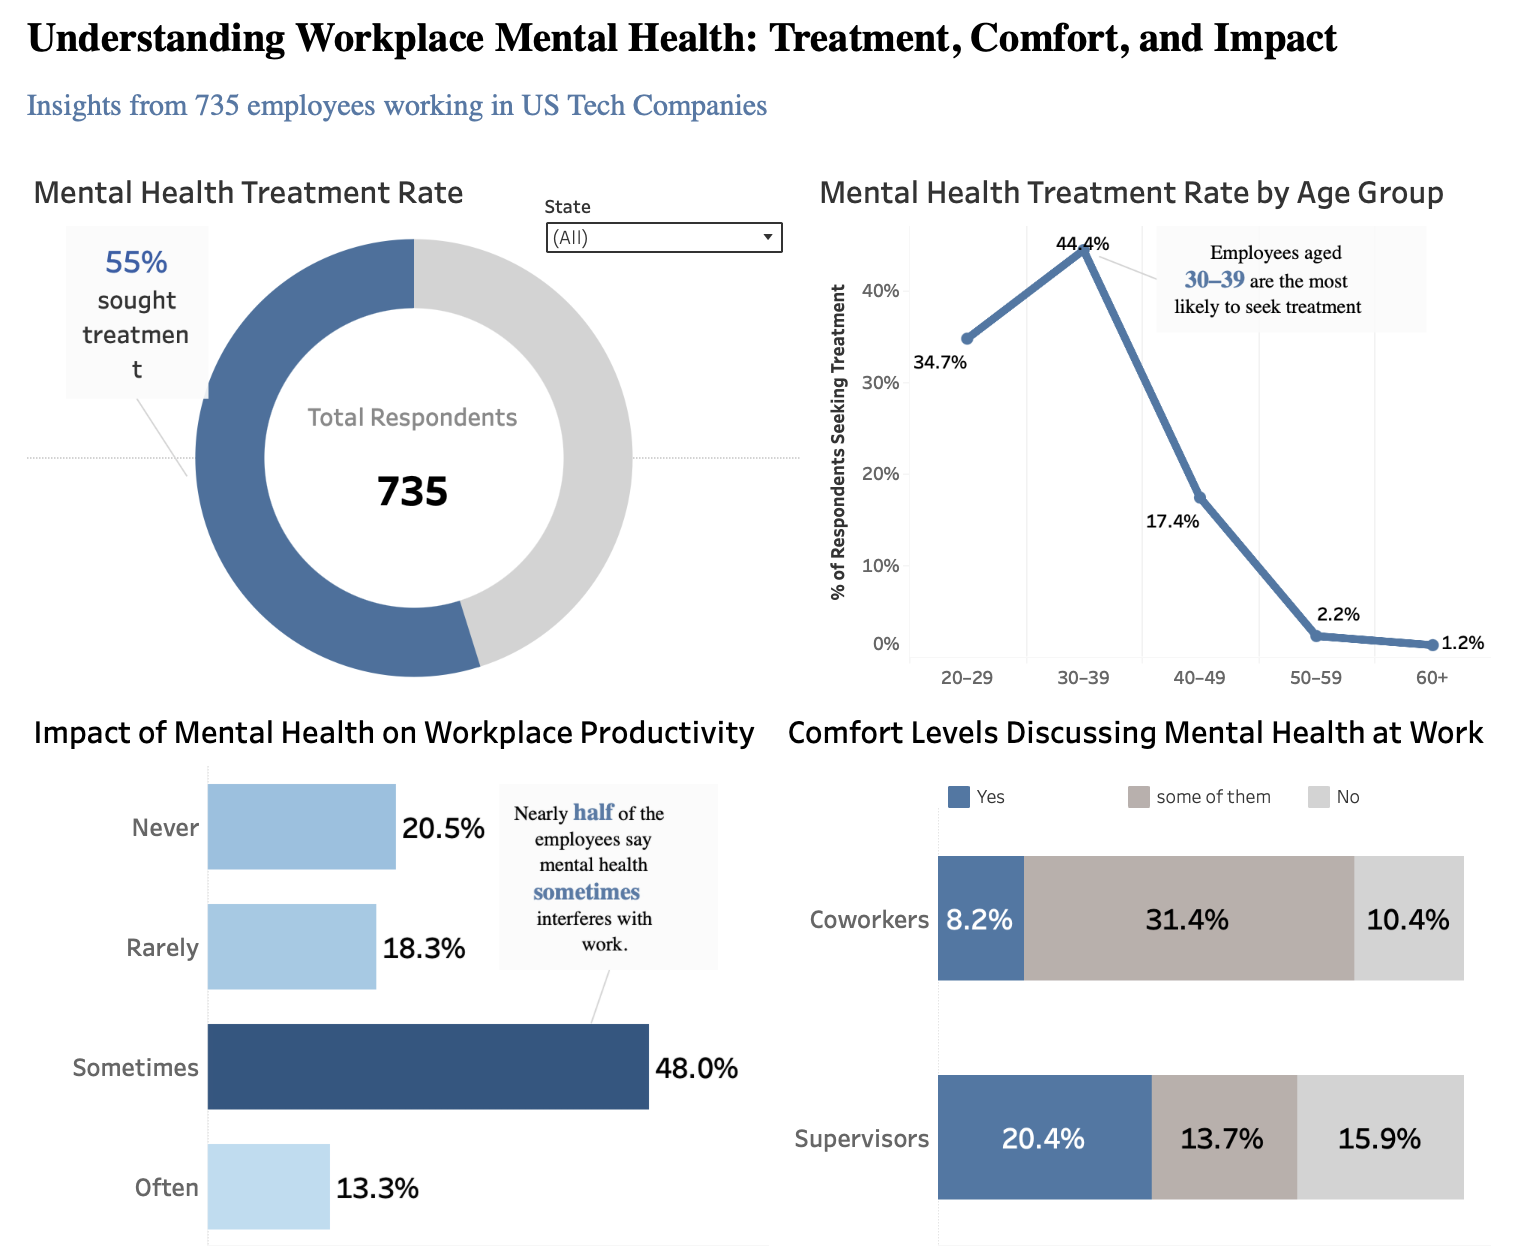

What the dashboard file says about the page in this screenshot:
{"tool":"tableau","page":{"name":"Dashboard 1","canvas":[1000,860],"ordinal":0},"visuals":[{"type":"text","box":[8,8,984,113]},{"type":"worksheet","title":"Mental Health Treatment Rate","mark":"Pie","rows":["Calculation_1098033892081483777","Calculation_1098033892081483777"],"box":[8,121,492,360]},{"type":"worksheet","title":"Mental Health Treatment Rate by Age Group","mark":"Line","rows":["survey.csv_1E0C19C9C3F6410097801362180B1277"],"cols":["Calculation_1147362381773553665"],"box":[500,121,492,360]},{"type":"worksheet","title":"How Often Does Mental Health Interfere with Employees’ Work?","mark":"Automatic","rows":["work_interfere"],"box":[8,481,492,371]},{"type":"worksheet","title":"Comfort Discussing Mental Health at Work","mark":"Automatic","rows":["Pivot Field Names"],"box":[500,481,492,371]},{"type":"legend","title":"Comfort Discussing Mental Health at Work","param":"[federated.0snwz8a18ip02x1ehzmsb0hvoc3g].[none:Pivot Field Values:nk]","box":[551,538,454,31]}]}

Visuals, with their boxes in screenshot pixels (x1, y1, x2, y2):
text: 99:24:1523:193
"Mental Health Treatment Rate" worksheet (Pie marks): 99:193:835:731
"Mental Health Treatment Rate by Age Group" worksheet (Line marks): 835:193:1523:731
"How Often Does Mental Health Interfere with Employees’ Work?" worksheet: 99:731:835:1257
"Comfort Discussing Mental Health at Work" worksheet: 835:731:1523:1257
"Comfort Discussing Mental Health at Work" legend: 911:817:1523:863
